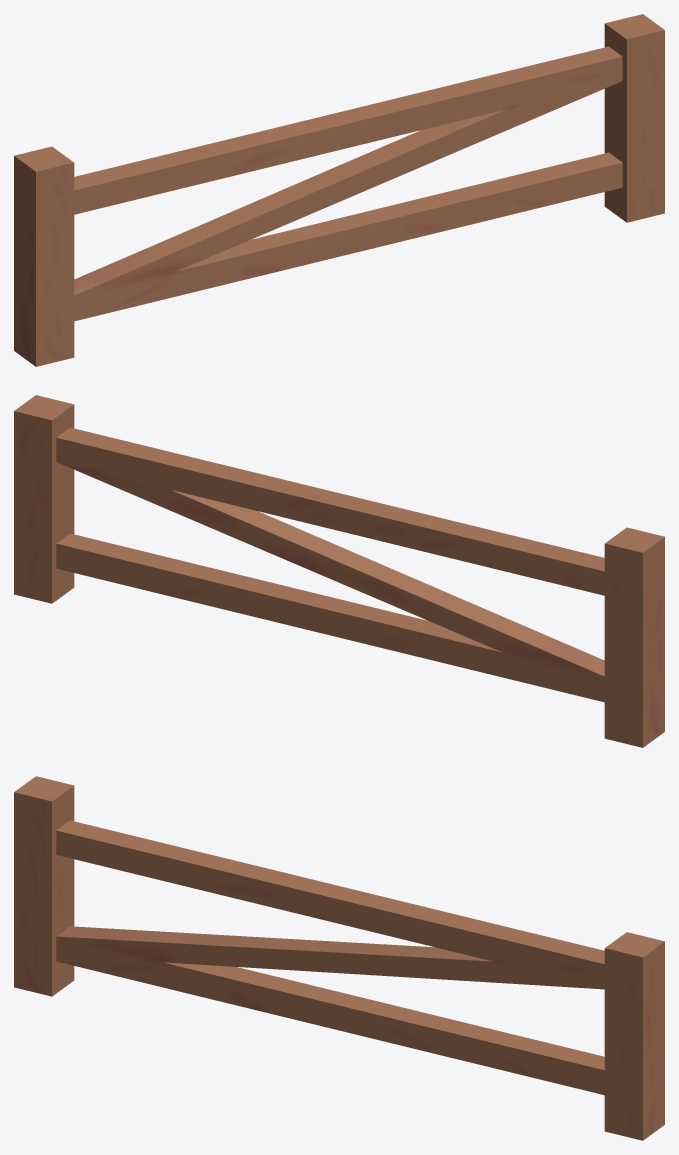
File: Fence.fbx
3 renders of one model, top to bottom at view 1: azimuth 30°, elevation 25°; view 2: azimuth 150°, elevation 25°; view 3: azimuth 330°, elevation 25°, orthographic.
Parts seen in each view (by area): view 1: Fence; view 2: Fence; view 3: Fence.
Part boxes in pixels (left/top/right/bottom): Fence: left=14, top=14, right=664, bottom=366; Fence: left=14, top=395, right=664, bottom=747; Fence: left=14, top=776, right=664, bottom=1140.
Bounding box in the file's own units: 335 × 20.31 × 99.24.
1 material, 1 textured.
